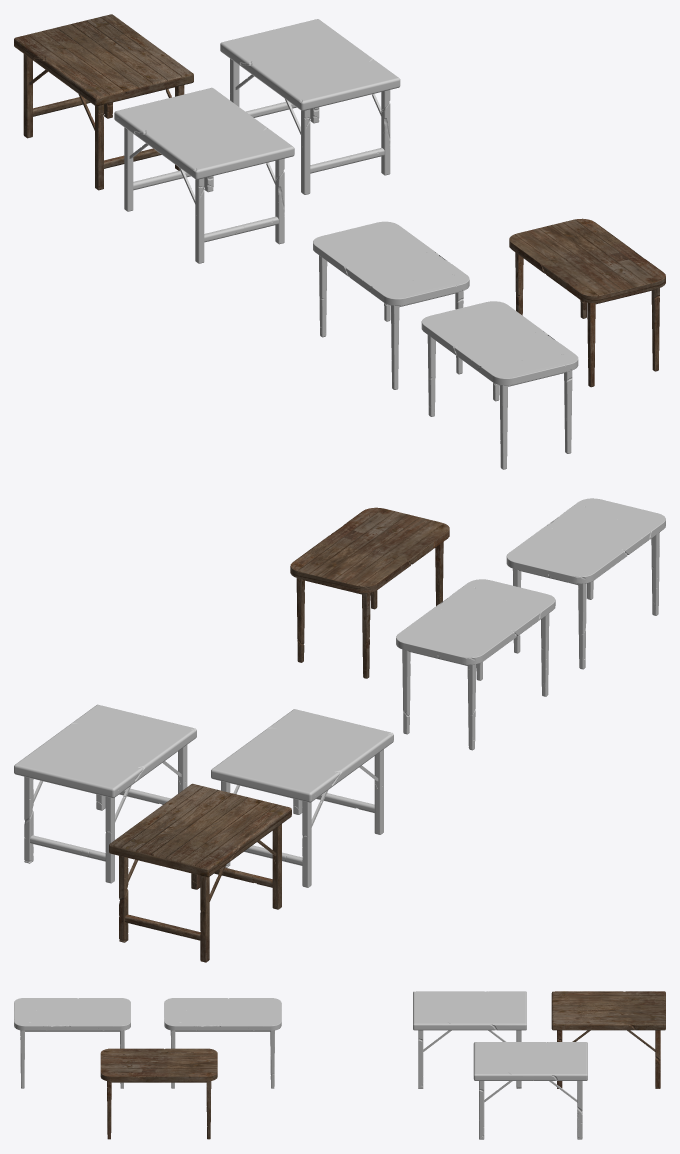
File: Столы.fbx
The picture shows the model from 3 angles, top to bottom: view 1: azimuth 30°, elevation 25°; view 2: azimuth 150°, elevation 25°; view 3: azimuth 270°, elevation 25°; orthographic projection. The views are drawn at different scales.
Parts seen in each view (by area): view 1: Cube.077_dmg, Cube.076_dmg.002, Cube.077_dmg.001, Cube.070_dmg, Cube.072_dmg.002, Cube.065_dmg.001; view 2: Cube.077_dmg.001, Cube.076_dmg.002, Cube.077_dmg, Cube.065_dmg.001, Cube.072_dmg.002, Cube.070_dmg; view 3: Cube.076_dmg.002, Cube.077_dmg.001, Cube.077_dmg, Cube.072_dmg.002, Cube.065_dmg.001, Cube.070_dmg.
Part boxes in pixels (left/top/right/bottom): Cube.077_dmg: left=114, top=87, right=294, bottom=263; Cube.076_dmg.002: left=220, top=19, right=400, bottom=194; Cube.077_dmg.001: left=14, top=14, right=193, bottom=190; Cube.070_dmg: left=421, top=301, right=578, bottom=469; Cube.072_dmg.002: left=509, top=218, right=665, bottom=387; Cube.065_dmg.001: left=313, top=221, right=469, bottom=389; Cube.077_dmg.001: left=109, top=783, right=291, bottom=962; Cube.076_dmg.002: left=14, top=704, right=196, bottom=883; Cube.077_dmg: left=211, top=709, right=393, bottom=887; Cube.065_dmg.001: left=396, top=579, right=555, bottom=750; Cube.072_dmg.002: left=290, top=507, right=449, bottom=678; Cube.070_dmg: left=506, top=498, right=665, bottom=669; Cube.076_dmg.002: left=473, top=1042, right=587, bottom=1139; Cube.077_dmg.001: left=551, top=991, right=665, bottom=1088; Cube.077_dmg: left=413, top=991, right=526, bottom=1088; Cube.072_dmg.002: left=100, top=1048, right=217, bottom=1139; Cube.065_dmg.001: left=164, top=998, right=281, bottom=1088; Cube.070_dmg: left=14, top=998, right=130, bottom=1088.
Size of the model in its own units: 1153 by 430 by 3770.
